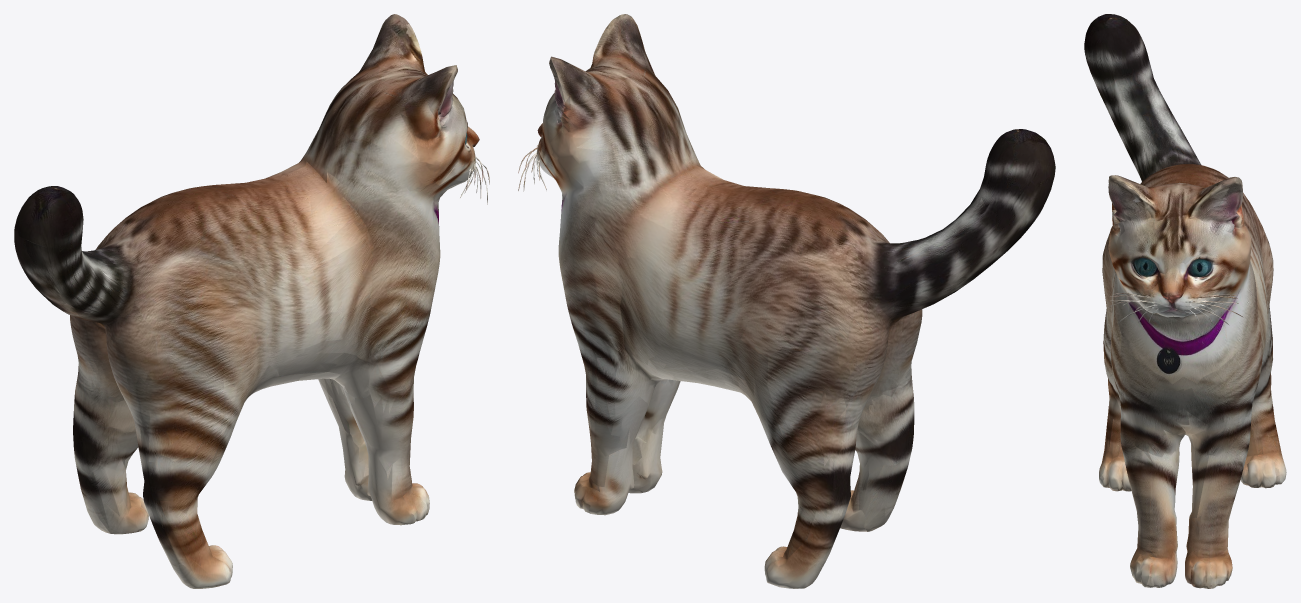
Rendered from NALACATCAT.glb.
The picture shows the model from 3 angles, left to right: view 1: azimuth 30°, elevation 25°; view 2: azimuth 150°, elevation 25°; view 3: azimuth 270°, elevation 25°; orthographic projection. The views are drawn at different scales.
Parts seen in each view (by area): view 1: fit; view 2: fit; view 3: fit.
Boxes of the visible parts, left/top/right/bottom form: fit: left=14, top=14, right=489, bottom=588; fit: left=518, top=14, right=1055, bottom=588; fit: left=1084, top=14, right=1286, bottom=588.
Size of the model in its own units: 1.11 by 1 by 0.4361.
Materials: 1 (1 with a texture image).
